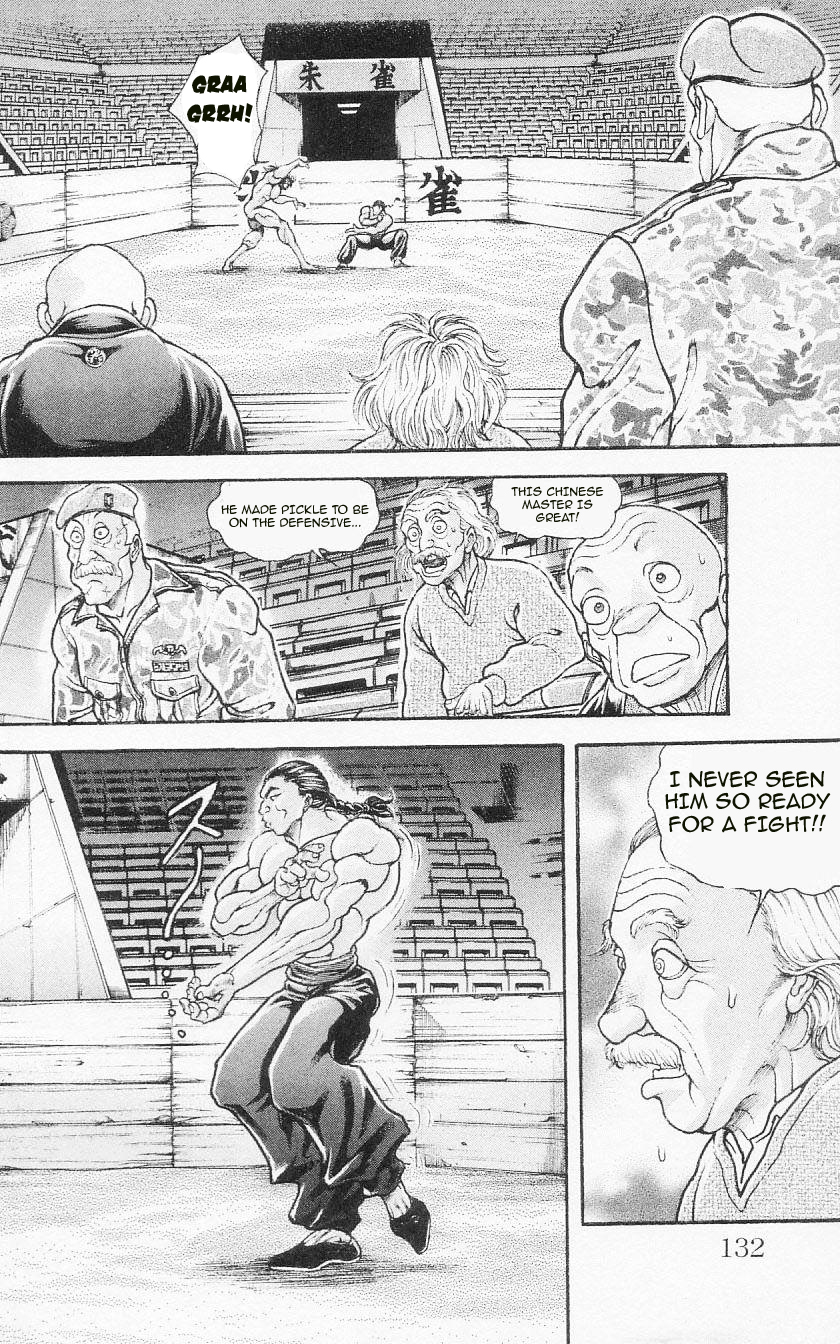Baloon: (645, 743, 840, 903), (168, 33, 268, 178), (210, 482, 376, 569), (484, 469, 629, 541)
Vignetta: (2, 4, 840, 455), (1, 747, 565, 1338), (1, 474, 729, 726), (574, 739, 840, 1216)
